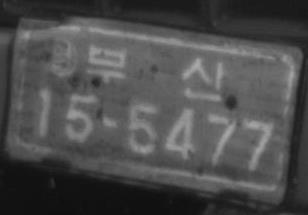-: (99, 114, 123, 130)
1: (29, 85, 58, 138)
4: (164, 106, 197, 160)
5: (127, 100, 158, 155), (64, 93, 94, 143)
7: (205, 111, 237, 168), (241, 115, 273, 172)
부산_D: (85, 41, 227, 102)
영: (40, 37, 80, 80)
